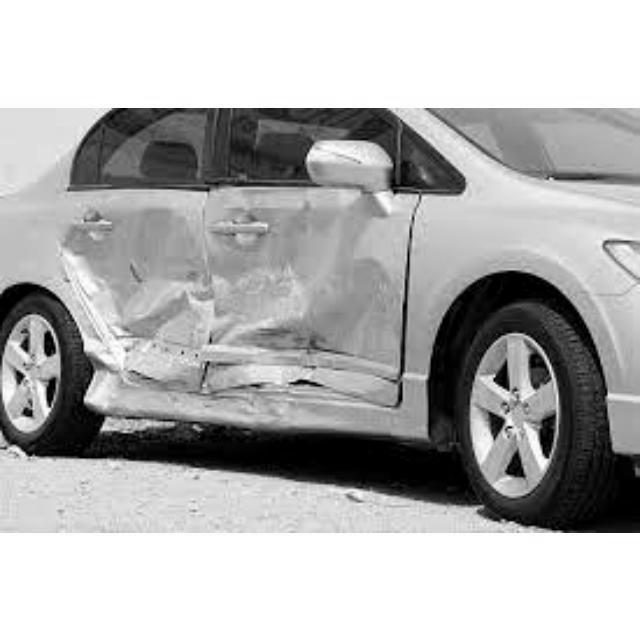doorouter-dent: (198, 184, 426, 442), (47, 189, 221, 435)
